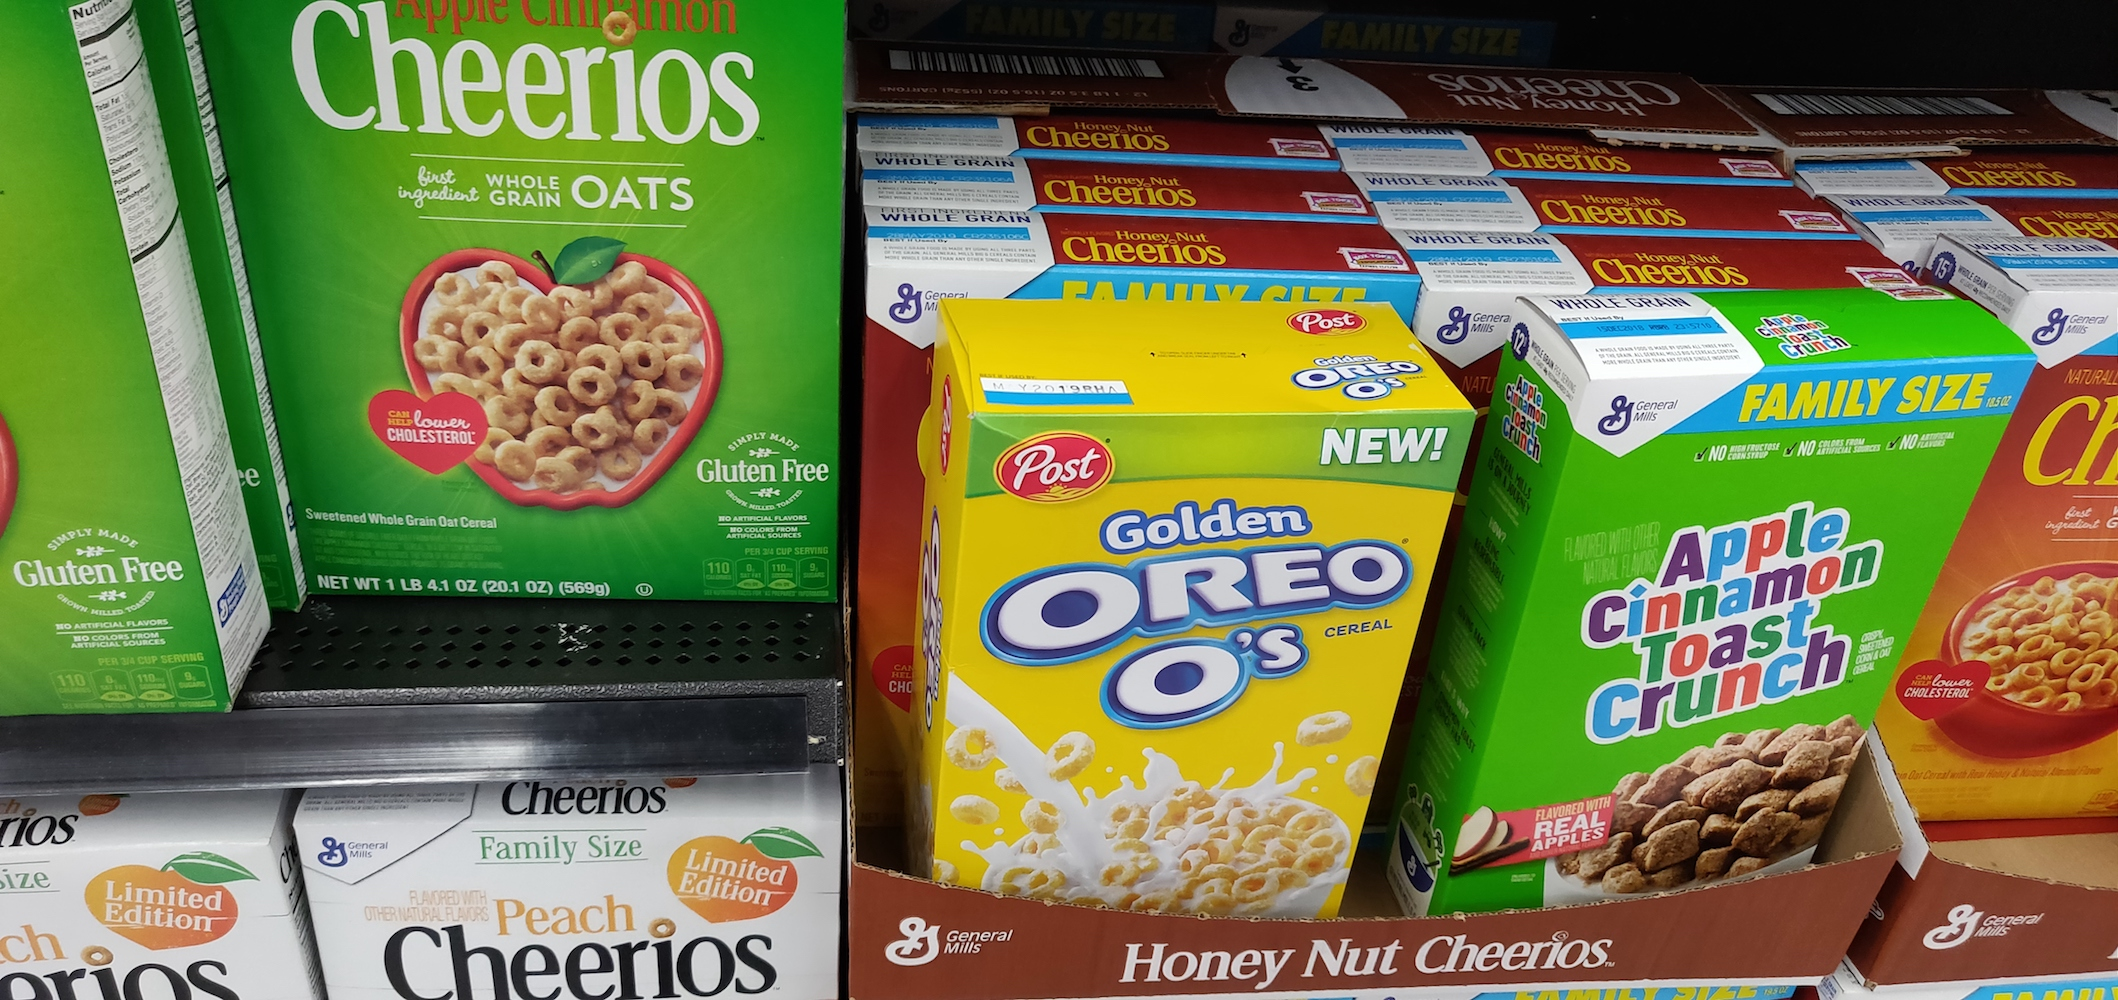Oreo Golden-568301011: (940, 293, 1430, 941)
